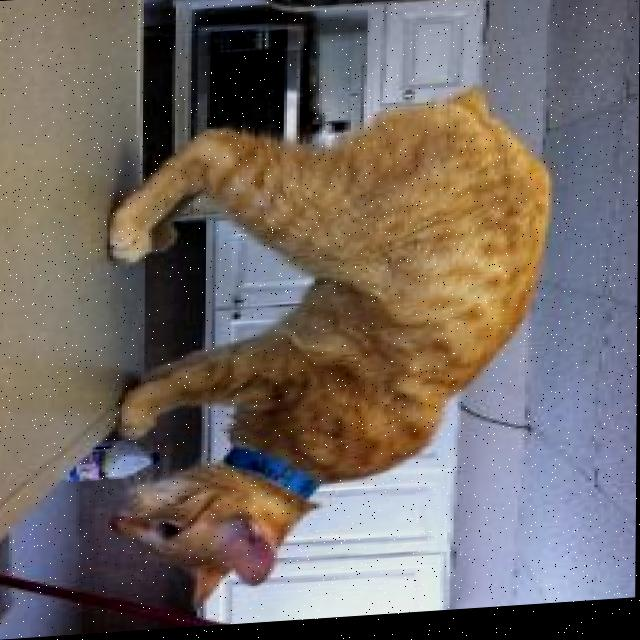American Bobtail: (100, 89, 557, 617)
